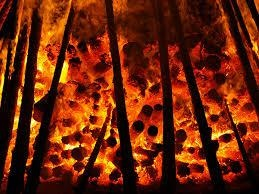fire: (0, 13, 254, 174)
